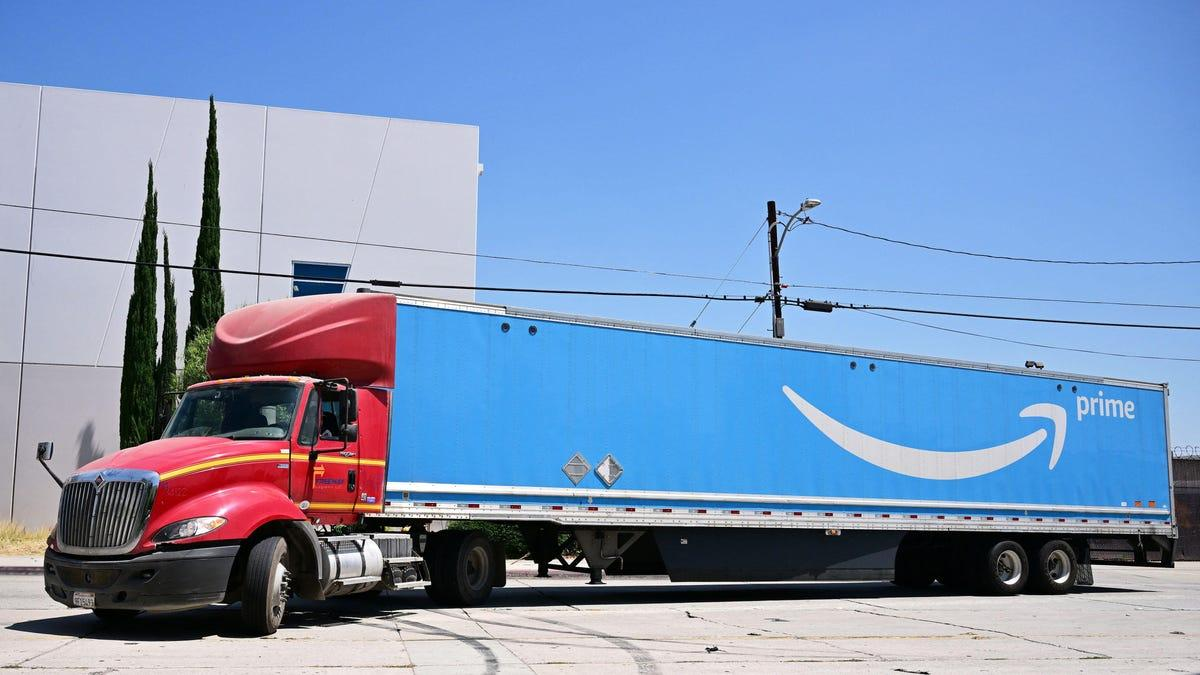truck: (37, 293, 1181, 634)
